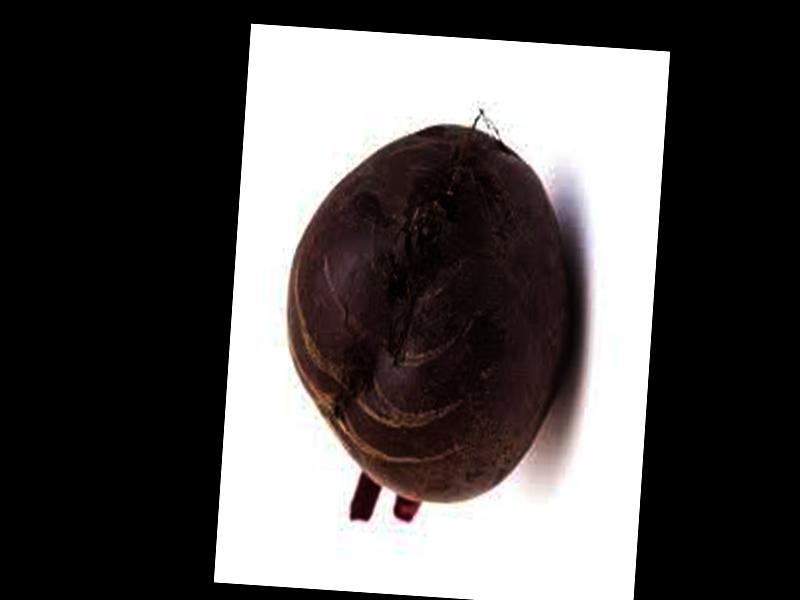Beet: (271, 113, 588, 530)
